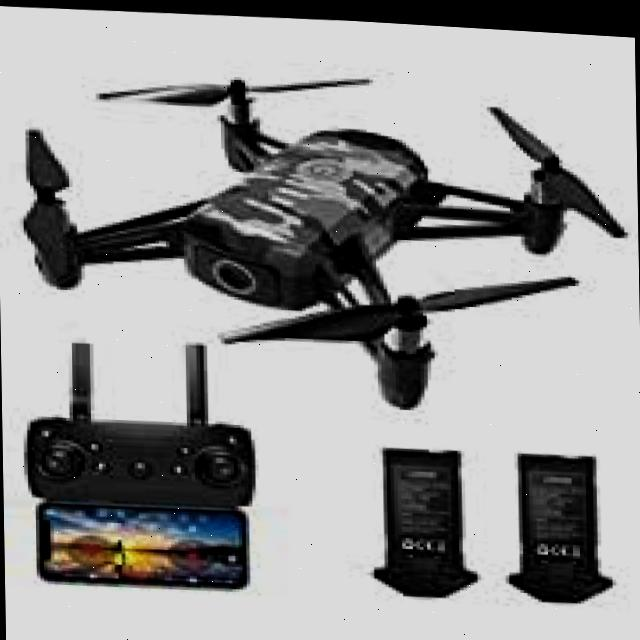drone: (0, 26, 640, 424)
